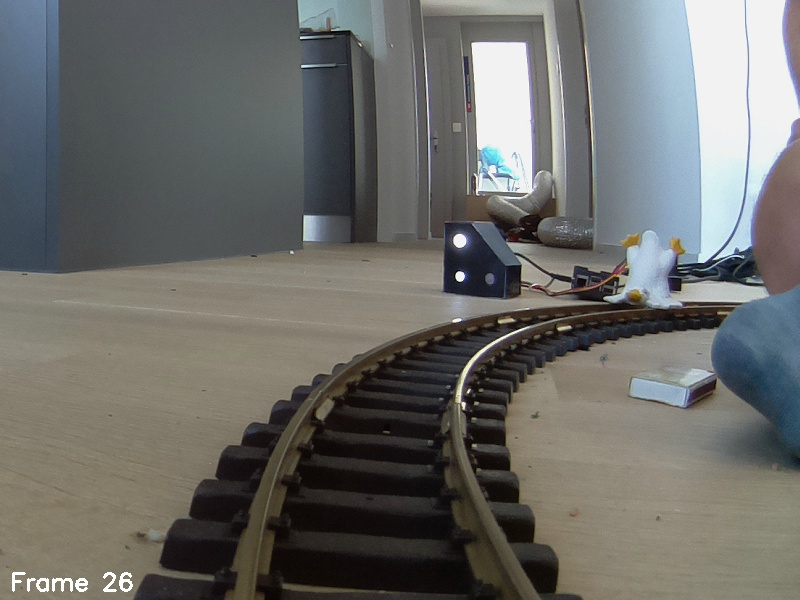Ente: (602, 226, 690, 318)
Fahrt: (442, 220, 523, 296)
